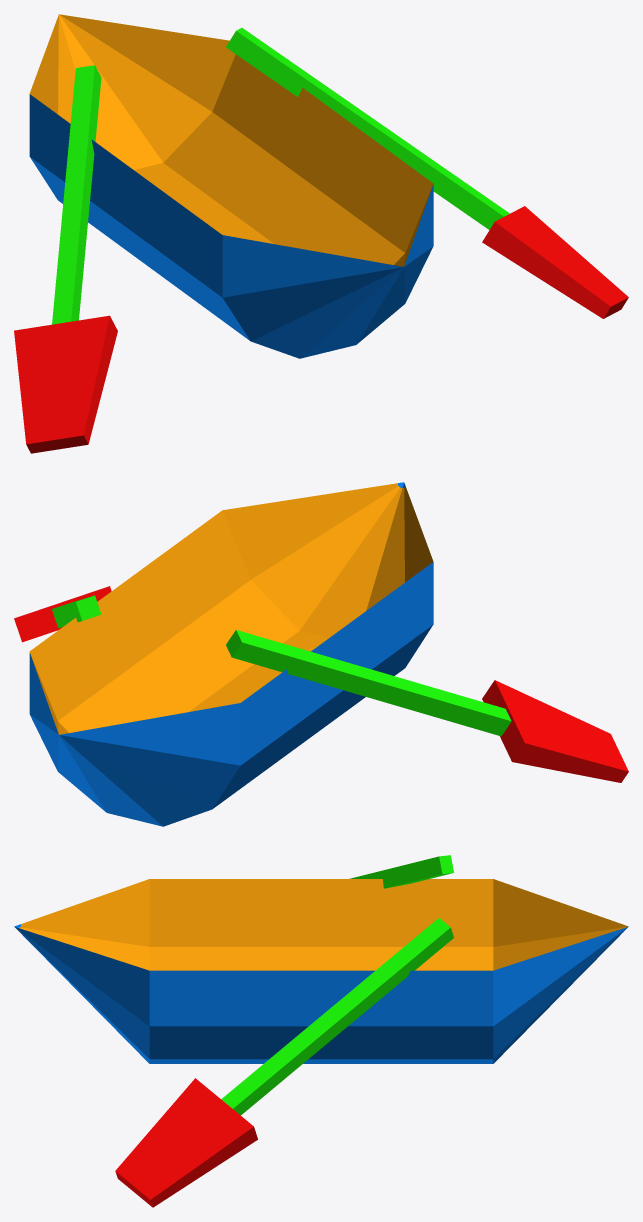
File: boat.obj
3 renders of one model, top to bottom at view 1: azimuth 30°, elevation 25°; view 2: azimuth 150°, elevation 25°; view 3: azimuth 270°, elevation 25°, orthographic. The views are drawn at different scales.
Parts seen in each view (by area): view 1: boat_body, left_paddle_head, right_paddle_handle, left_paddle_handle, right_paddle_head; view 2: boat_body, left_paddle_handle, left_paddle_head, right_paddle_head, right_paddle_handle; view 3: boat_body, right_paddle_head, right_paddle_handle, left_paddle_handle.
Part boxes in pixels (box(x1,y1,x2,y2)): boat_body: box(29, 14, 433, 358); left_paddle_head: box(14, 315, 117, 453); right_paddle_handle: box(226, 28, 509, 229); left_paddle_handle: box(52, 65, 101, 324); right_paddle_head: box(482, 206, 628, 318); boat_body: box(29, 482, 433, 826); left_paddle_handle: box(226, 630, 511, 736); left_paddle_head: box(482, 680, 628, 782); right_paddle_head: box(14, 586, 111, 642); right_paddle_handle: box(52, 595, 101, 628); boat_body: box(14, 879, 628, 1063); right_paddle_head: box(115, 1078, 257, 1207); right_paddle_handle: box(221, 918, 453, 1115); left_paddle_handle: box(349, 855, 453, 888).
Bounding box in the file's own units: 4.28 × 1.47 × 4.25.
